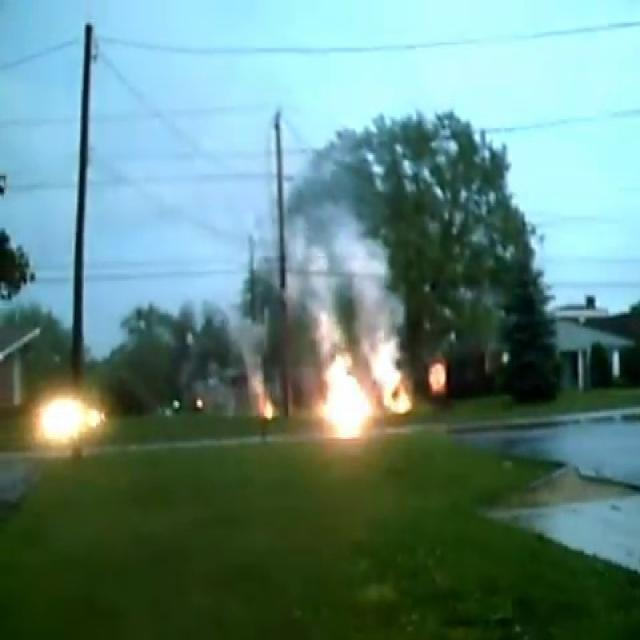Fire: (316, 340, 412, 444)
Smoke: (277, 142, 403, 347)
